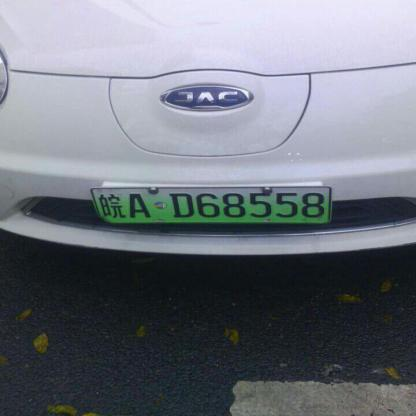lp: (91, 188, 340, 222)
